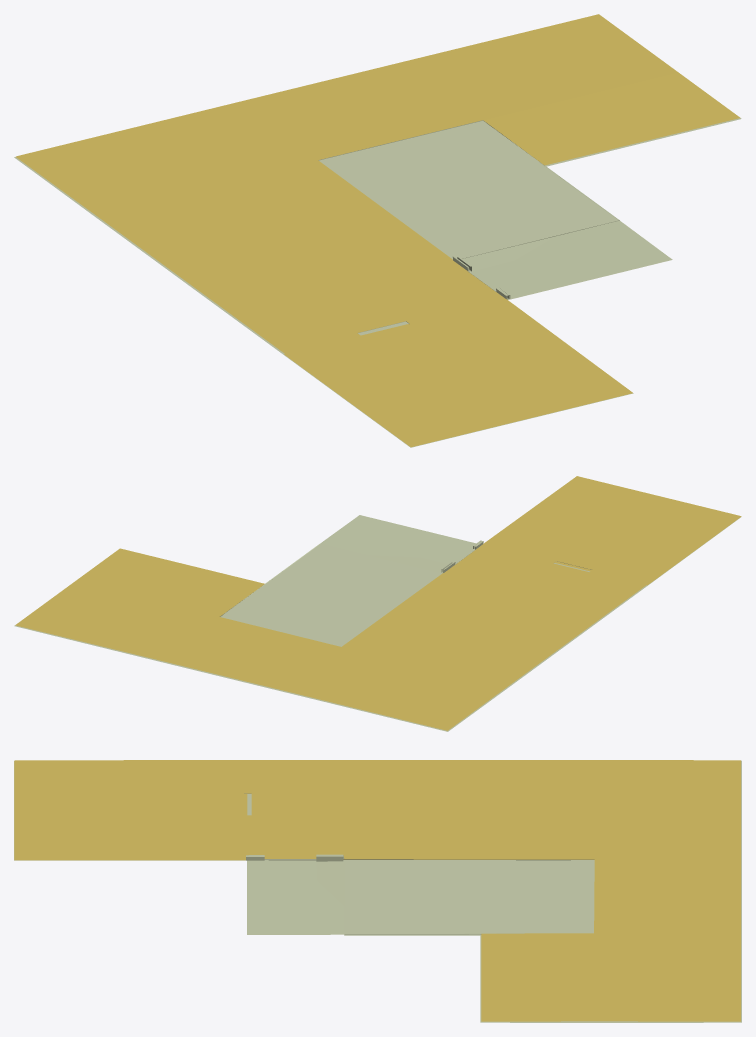
File: FloordownStairs.fbx
The picture shows the model from 3 angles, top to bottom: view 1: azimuth 30°, elevation 25°; view 2: azimuth 150°, elevation 25°; view 3: azimuth 270°, elevation 25°; orthographic projection. The views are drawn at different scales.
Visible parts, largest first — view 1: Plane.001; view 2: Plane.001; view 3: Plane.001.
Boxes of the visible parts, x1,y1,x2,y2 form: Plane.001: [14, 14, 741, 447]; Plane.001: [14, 476, 741, 731]; Plane.001: [14, 760, 741, 1022].
Size of the model in its own units: 1204 by 12.93 by 1414.
